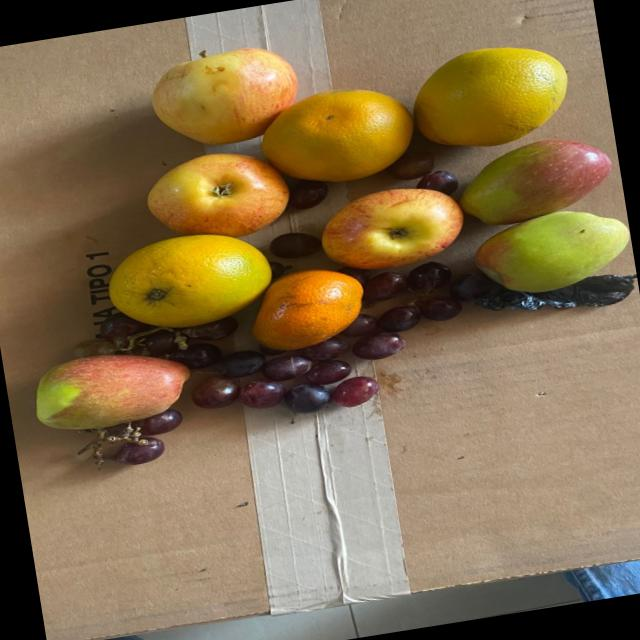bolsa_negra: (478, 264, 639, 326)
